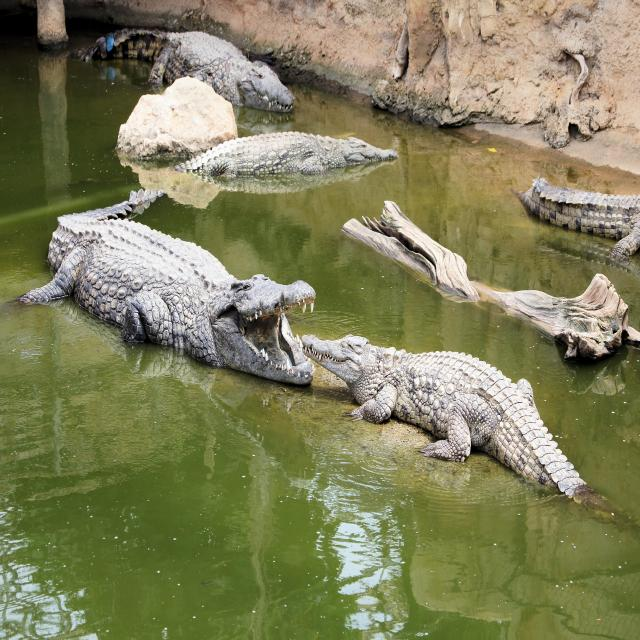crocodile: (16, 190, 320, 383), (297, 330, 592, 501), (89, 26, 297, 114)
